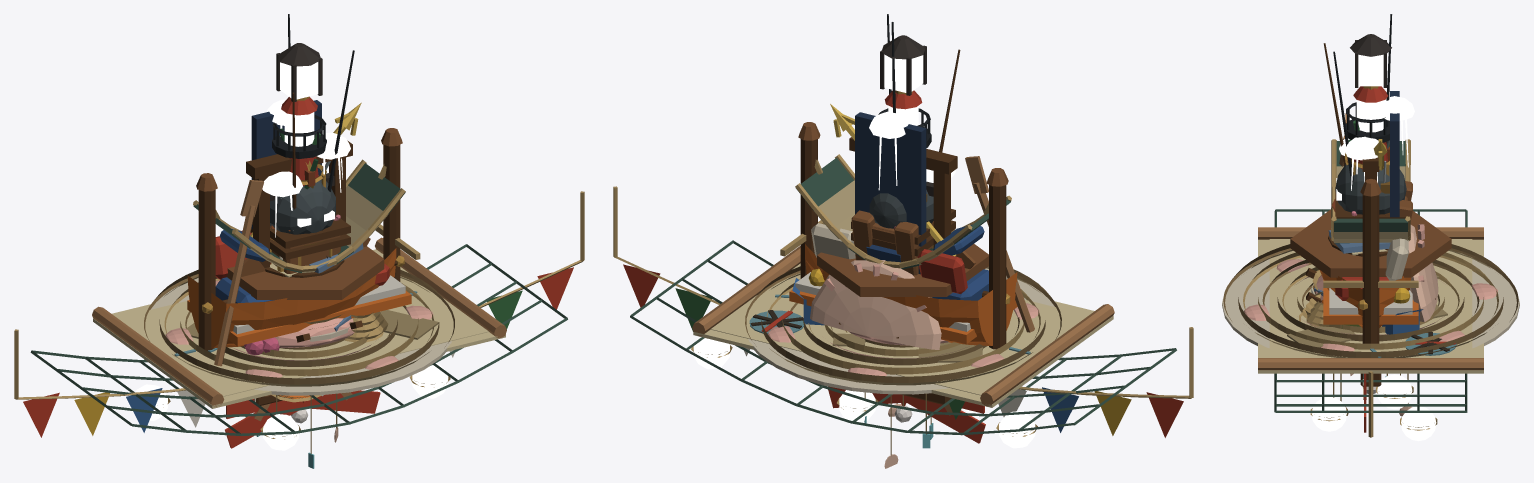
File: dress_furn.glb
The picture shows the model from 3 angles, left to right: view 1: azimuth 30°, elevation 25°; view 2: azimuth 150°, elevation 25°; view 3: azimuth 270°, elevation 25°; orthographic projection. The views are drawn at different scales.
Parts seen in each view (by area): view 1: f_rug_chart_m, f_seat_boat_m, f_seat_hammock_m, f_hang_net_m, f_rug_knot_m, f_hang_flags_m, f_rug_shell_m, f_table_chart_m, f_trophy_helm_m, f_wall_flag_m, f_lamp_house_m, f_dock_bell_m (+8 smaller); view 2: f_rug_chart_m, f_seat_hammock_m, f_seat_boat_m, f_hang_net_m, f_rug_knot_m, f_trophy_harp_m, f_pet_shell_m, f_hang_flags_m, f_rug_shell_m, f_table_chart_m, f_lamp_post_m, f_seat_rocker_m (+7 smaller); view 3: f_rug_chart_m, f_rug_knot_m, f_rug_shell_m, f_seat_hammock_m, f_hang_net_m, f_seat_boat_m, f_table_chart_m, f_lamp_house_m, f_trophy_helm_m, f_lamp_post_m, f_lamp_jelly_m, f_pet_shell_m (+8 smaller).
Part boxes in pixels (left/top/right/bottom): f_rug_chart_m: left=92, top=237, right=506, bottom=408; f_seat_boat_m: left=187, top=180, right=420, bottom=366; f_seat_hammock_m: left=193, top=128, right=405, bottom=350; f_hang_net_m: left=30, top=244, right=567, bottom=450; f_rug_knot_m: left=144, top=269, right=454, bottom=384; f_hang_flags_m: left=14, top=191, right=584, bottom=437; f_rug_shell_m: left=147, top=276, right=451, bottom=395; f_table_chart_m: left=226, top=246, right=384, bottom=299; f_trophy_helm_m: left=250, top=170, right=350, bottom=259; f_wall_flag_m: left=202, top=255, right=404, bottom=448; f_lamp_house_m: left=272, top=96, right=326, bottom=185; f_dock_bell_m: left=246, top=140, right=352, bottom=267; f_rug_chart_m: left=692, top=246, right=1114, bottom=407; f_seat_hammock_m: left=795, top=122, right=1011, bottom=349; f_seat_boat_m: left=780, top=156, right=1034, bottom=345; f_hang_net_m: left=630, top=240, right=1176, bottom=448; f_rug_knot_m: left=745, top=266, right=1061, bottom=383; f_trophy_harp_m: left=830, top=104, right=956, bottom=274; f_pet_shell_m: left=810, top=260, right=948, bottom=349; f_hang_flags_m: left=613, top=186, right=1193, bottom=437; f_rug_shell_m: left=748, top=267, right=1054, bottom=394; f_table_chart_m: left=817, top=229, right=988, bottom=296; f_lamp_post_m: left=880, top=35, right=926, bottom=95; f_seat_rocker_m: left=839, top=210, right=918, bottom=338; f_rug_chart_m: left=1258, top=227, right=1483, bottom=373; f_rug_knot_m: left=1223, top=244, right=1518, bottom=357; f_rug_shell_m: left=1222, top=249, right=1519, bottom=357; f_seat_hammock_m: left=1328, top=139, right=1410, bottom=343; f_hang_net_m: left=1274, top=209, right=1467, bottom=441; f_seat_boat_m: left=1319, top=113, right=1418, bottom=327; f_table_chart_m: left=1290, top=209, right=1451, bottom=277; f_lamp_house_m: left=1346, top=86, right=1389, bottom=169; f_trophy_helm_m: left=1331, top=146, right=1406, bottom=214; f_lamp_post_m: left=1350, top=34, right=1391, bottom=89; f_lamp_jelly_m: left=1339, top=96, right=1414, bottom=190; f_pet_shell_m: left=1311, top=224, right=1438, bottom=322.
Size of the model in its own units: 5.24 by 3.77 by 2.5.
